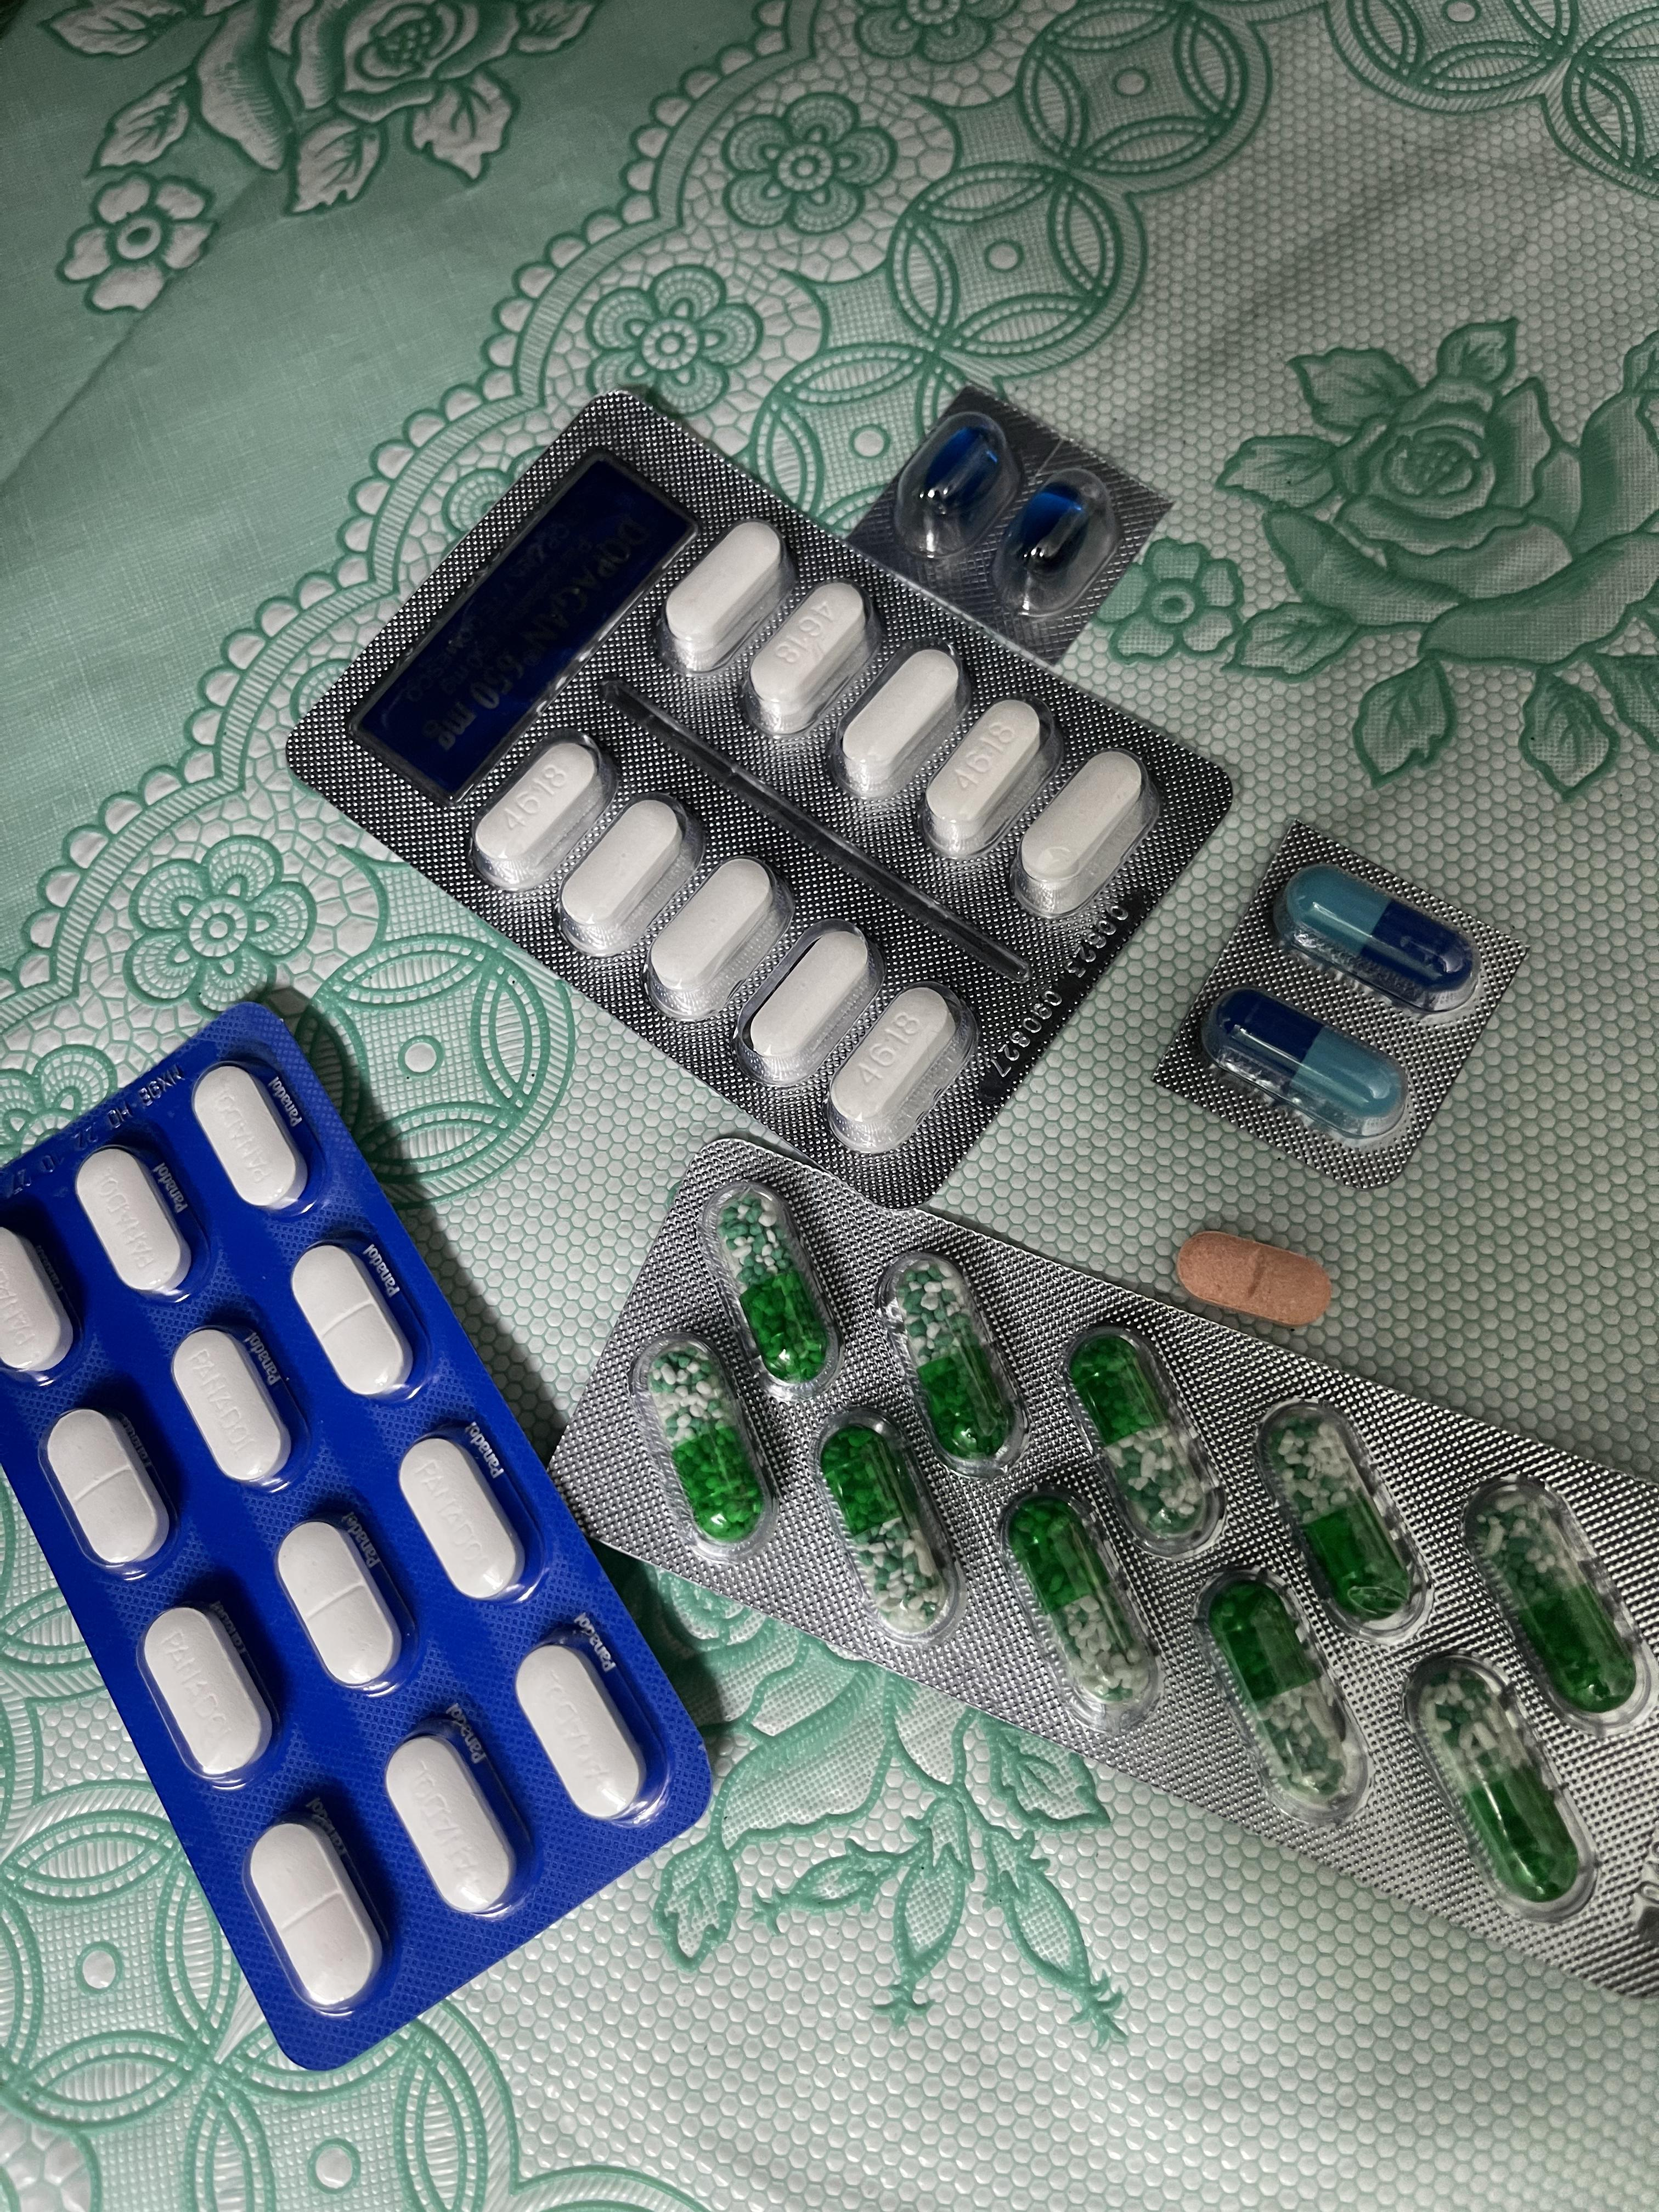Lincomyxin_500mg: (1006, 482, 1094, 587), (915, 427, 1006, 524)
Loratadine_10mg: (1180, 1231, 1333, 1325)
Paracetamol_350mg: (247, 1813, 383, 2012), (385, 1723, 525, 1916), (516, 1639, 653, 1829), (139, 1602, 275, 1787), (275, 1514, 411, 1691), (399, 1435, 528, 1608), (171, 1325, 298, 1491), (45, 1409, 171, 1573), (289, 1245, 416, 1400), (77, 1153, 193, 1299), (192, 1066, 308, 1211), (2, 1221, 75, 1378)
Paracetamol_500mg: (647, 850, 789, 1014), (558, 794, 694, 954), (1014, 749, 1147, 911), (471, 733, 608, 888), (833, 982, 965, 1139), (664, 519, 791, 674), (924, 700, 1049, 855), (746, 934, 875, 1083), (840, 651, 965, 805), (746, 580, 871, 733)
Paracetamol_650mg: (1406, 1655, 1600, 1928), (1466, 1475, 1654, 1735), (1211, 1569, 1380, 1832), (1256, 1402, 1429, 1642), (1006, 1491, 1162, 1731), (814, 1407, 965, 1642), (884, 1251, 1032, 1479), (1058, 1331, 1209, 1547), (636, 1334, 781, 1559), (711, 1179, 842, 1400)
pill: (1204, 988, 1412, 1151), (1277, 866, 1483, 1021)
